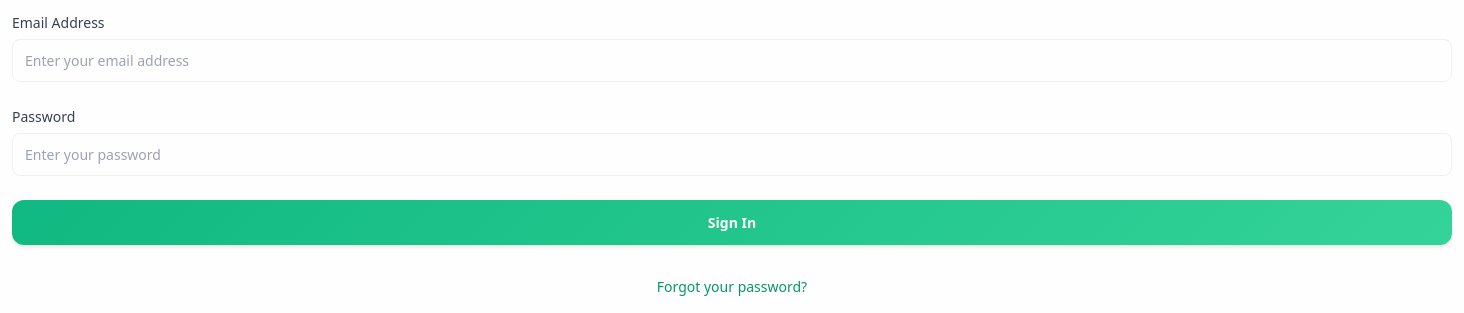
it: Authentication Forms › SignInForm › Form Submission › shows loading state during submission
Fill and submit form
Type "test@example.com" into the field labelled "Email Address". click: (732,60)
box: [12,39,1452,82]
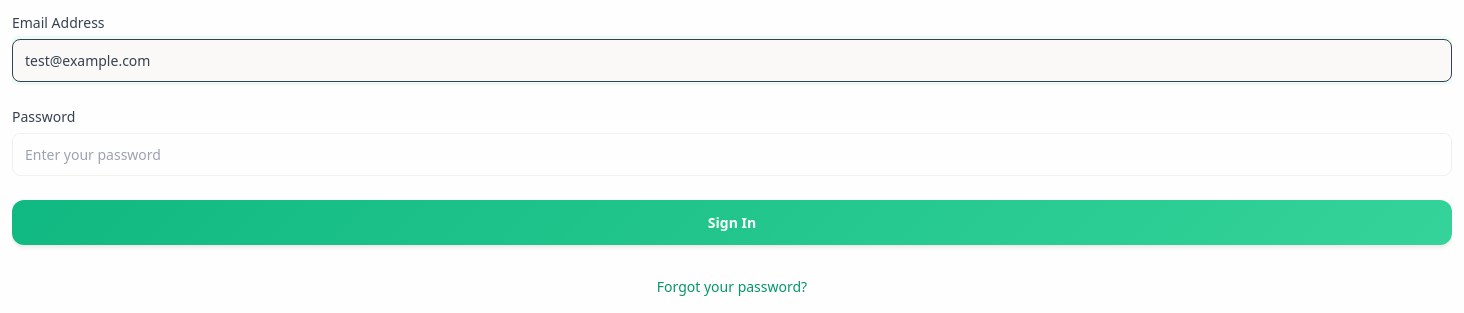
Type "password123" into the password field labelled "Password". click: (732,154)
box: [12,133,1452,176]
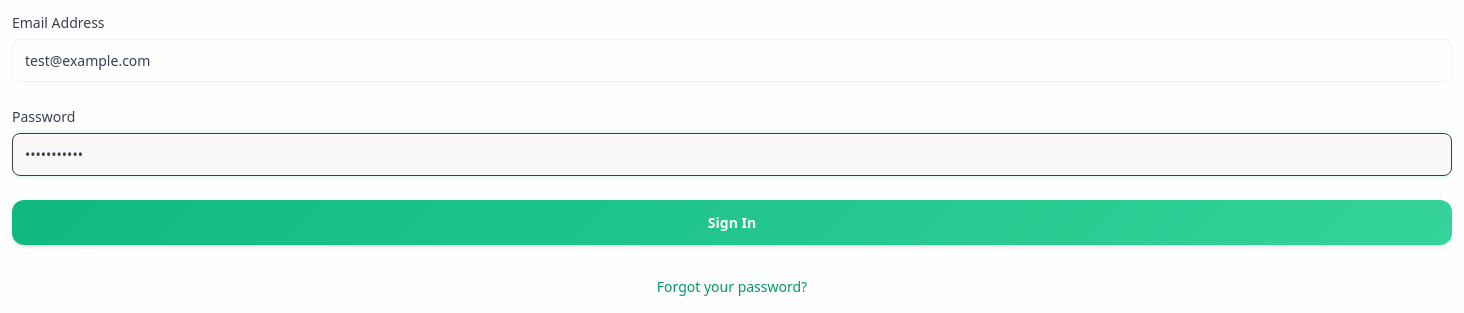
Click the button "Sign In". click: (732,222)
box: [12,200,1452,245]
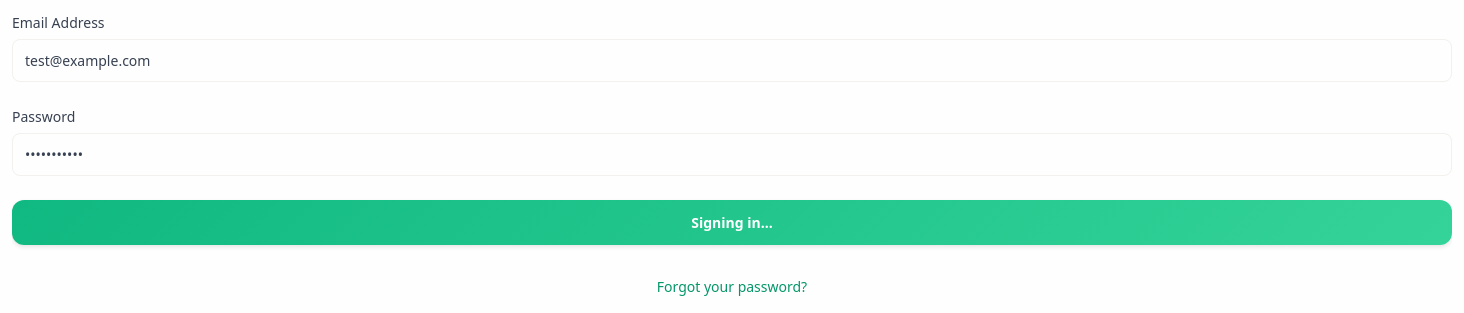
Result: the button named "sign in" is disabled at [12,200,1452,245]
